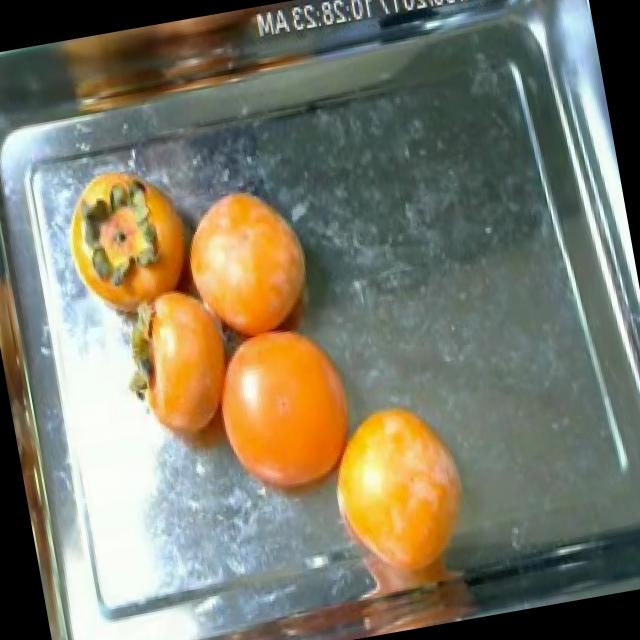Fruit: (306, 380, 490, 600), (168, 170, 328, 357), (50, 150, 176, 318)
